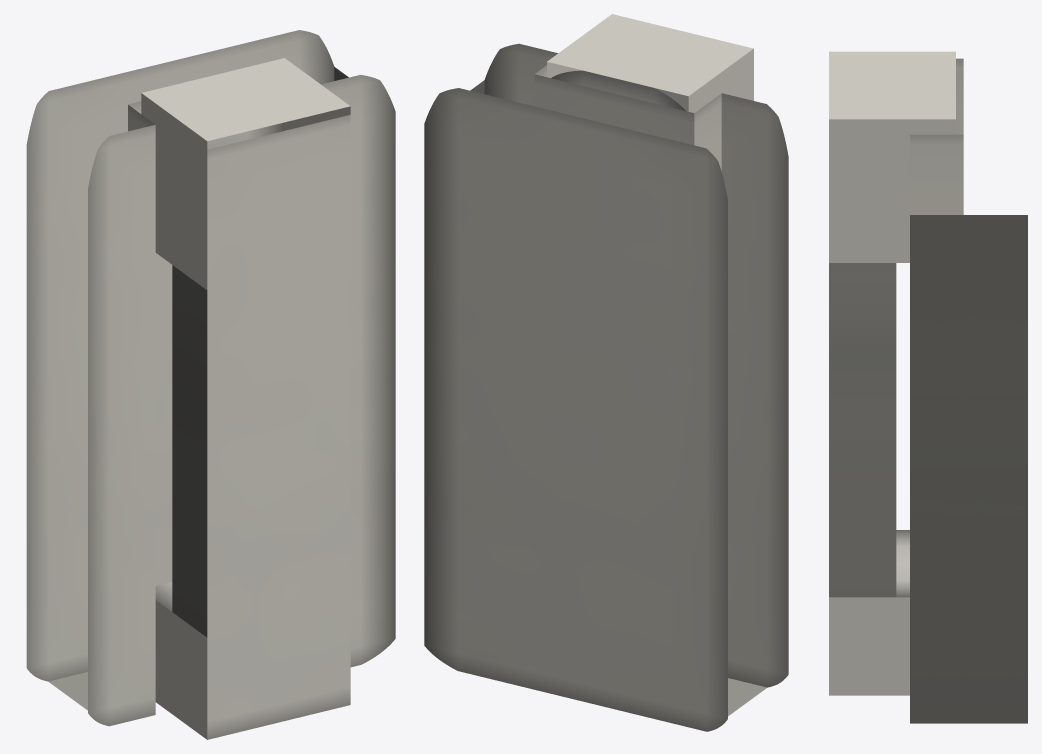
Rendered from SM_EC_Telephone_Static_Wall_0.fbx.
3 renders of one model, left to right at view 1: azimuth 30°, elevation 25°; view 2: azimuth 150°, elevation 25°; view 3: azimuth 270°, elevation 25°, orthographic. The views are drawn at different scales.
Visible parts, largest first — view 1: SM_EC_Telephone_Static_Wall_0; view 2: SM_EC_Telephone_Static_Wall_0; view 3: SM_EC_Telephone_Static_Wall_0.
Boxes of the visible parts, x1,y1,x2,y2 form: SM_EC_Telephone_Static_Wall_0: [26, 30, 395, 739]; SM_EC_Telephone_Static_Wall_0: [424, 14, 788, 731]; SM_EC_Telephone_Static_Wall_0: [829, 51, 1027, 723].
Bounding box in the file's own units: 0.2795 × 0.1562 × 0.5027.
